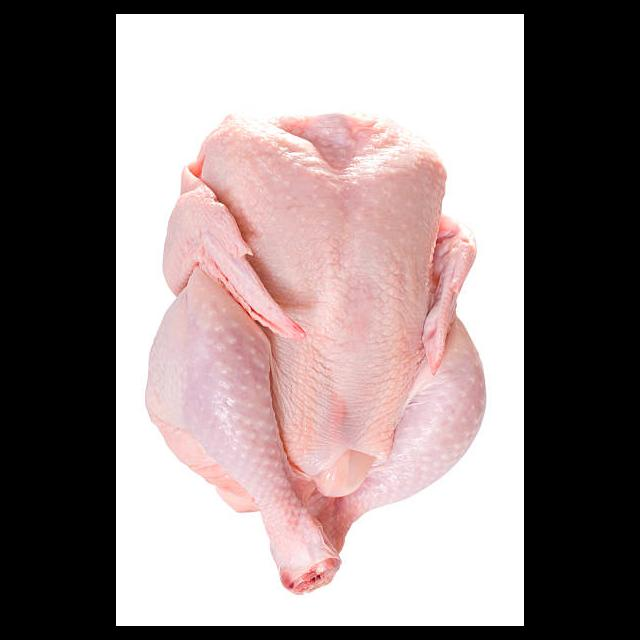chicken: (143, 109, 488, 595)
